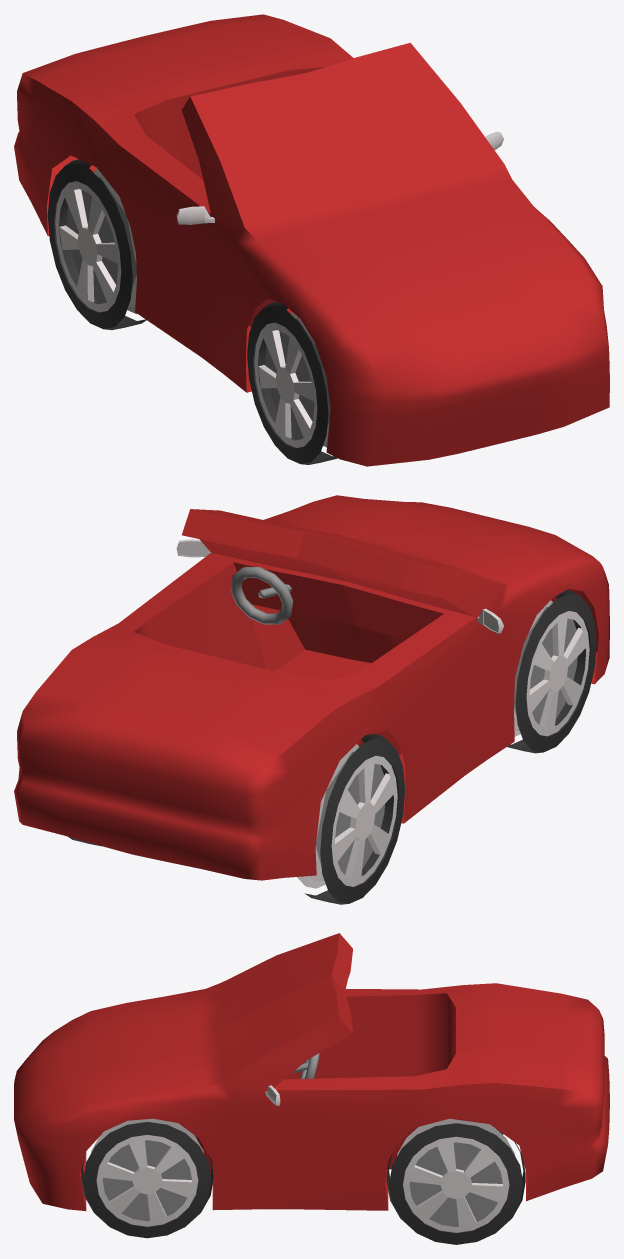
Rendered from car.fbx.
3 views of the same model, one above another, from view 1: azimuth 30°, elevation 25°; view 2: azimuth 150°, elevation 25°; view 3: azimuth 270°, elevation 25° (orthographic). The views are drawn at different scales.
Parts seen in each view (by area): view 1: polySurface50; view 2: polySurface50; view 3: polySurface50.
Boxes of the visible parts, x1,y1,x2,y2 form: polySurface50: (14, 14, 609, 466); polySurface50: (14, 495, 609, 904); polySurface50: (14, 933, 609, 1244).
Size of the model in its own units: 3.7 by 3 by 7.39.
